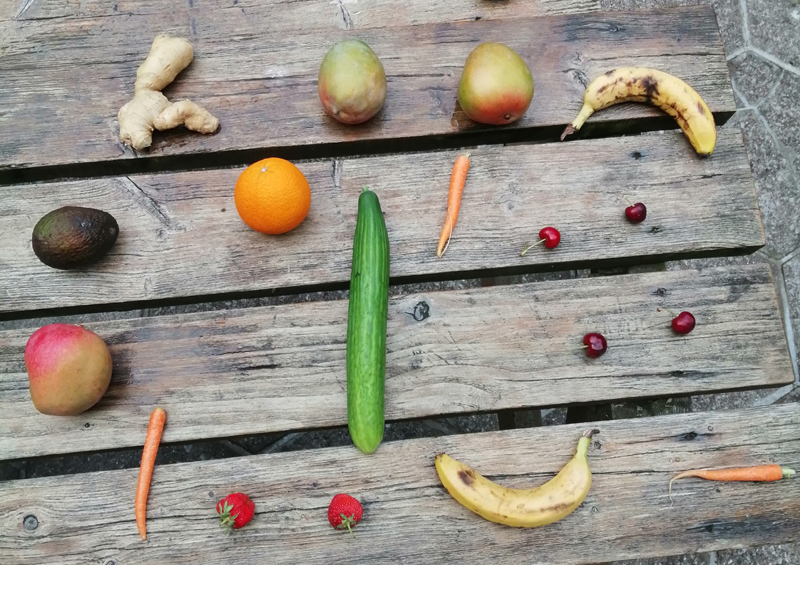avocado: (28, 200, 122, 271)
banana: (424, 415, 605, 533), (565, 52, 719, 166)
carrot: (659, 453, 800, 505), (437, 142, 477, 260)
cherry: (517, 218, 566, 271), (552, 323, 615, 364), (648, 293, 704, 338), (619, 184, 653, 228)
cucumber: (337, 189, 399, 462)
ginger: (107, 29, 221, 155)
mango: (17, 321, 119, 420), (454, 40, 539, 127), (314, 36, 389, 129)
orange: (229, 153, 317, 242)
strawberry: (321, 484, 367, 534), (210, 493, 261, 527)
